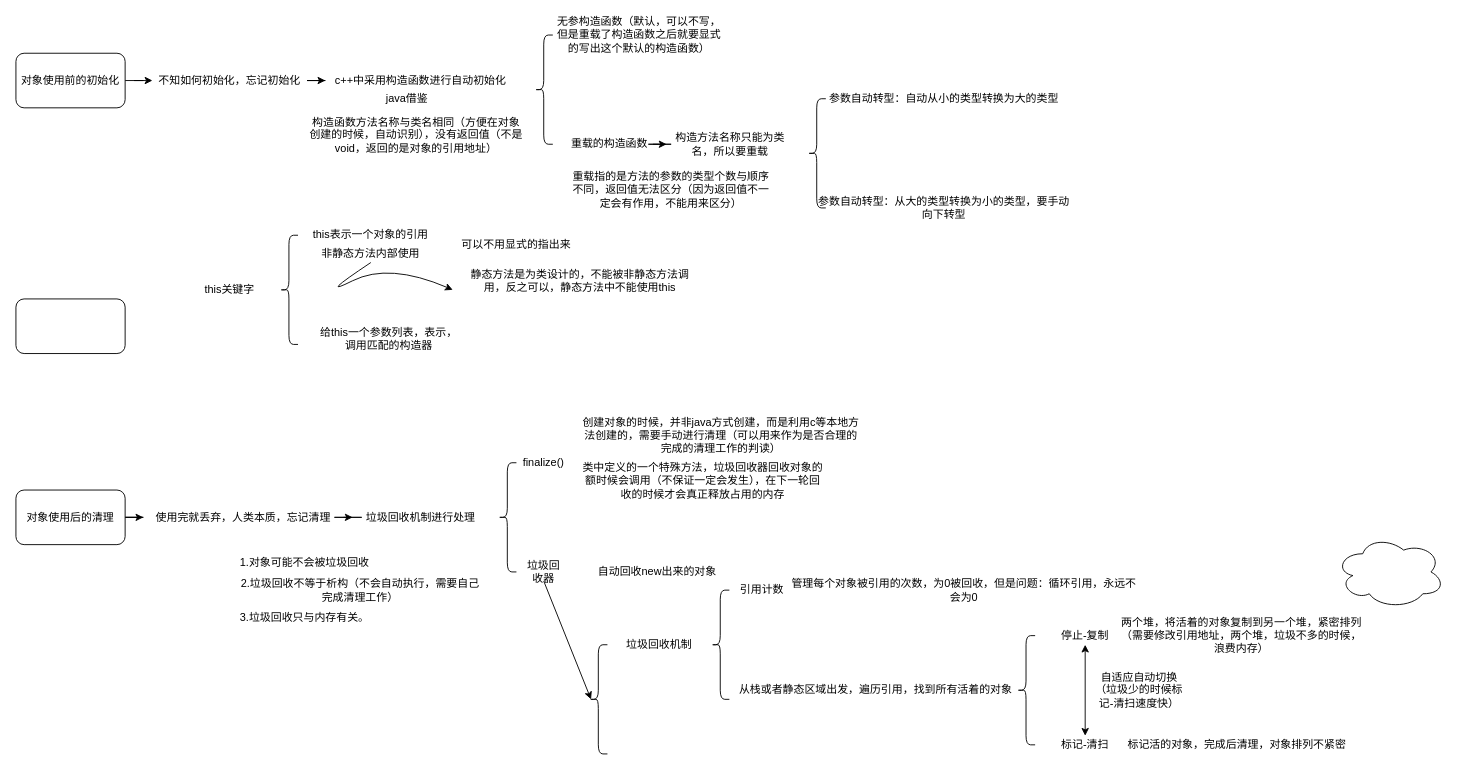
Some shapes in this 1461 by 770 pixel diagram are drawn without their labels. The box of each missing label's shape, as (x1, y1, x2, y2) in pixels:
对象使用: (15, 298, 125, 354)
改进：一个堆，划分为多个块: (1335, 535, 1445, 608)
